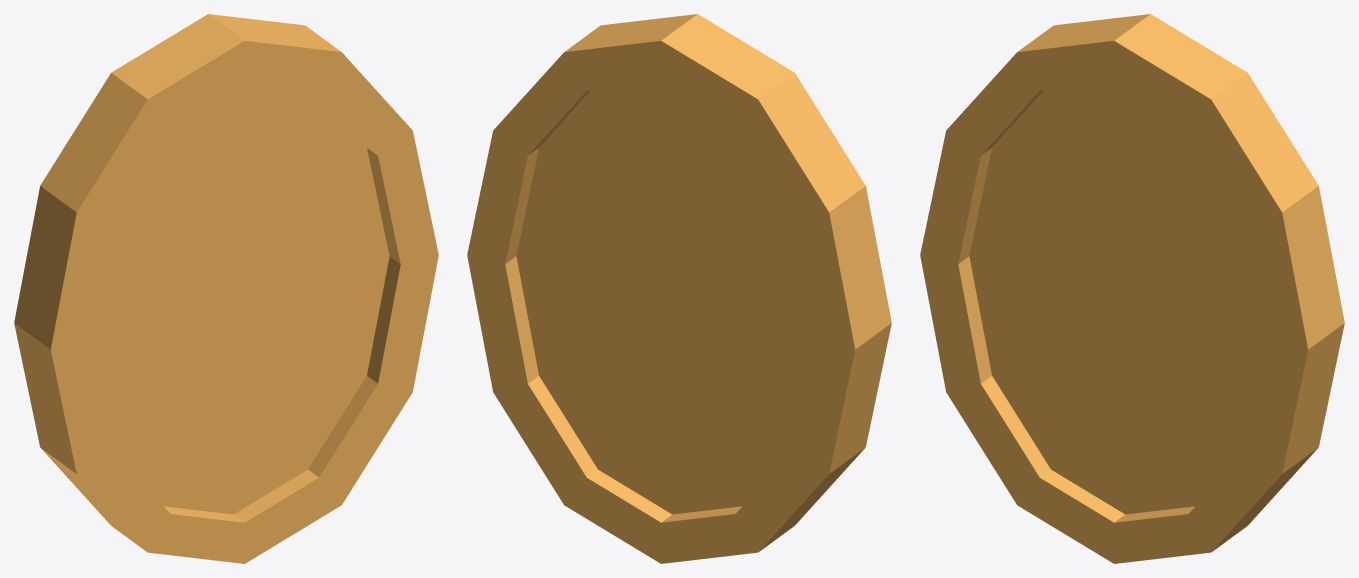
File: score.glb
3 views of the same model, side by side, from view 1: azimuth 30°, elevation 25°; view 2: azimuth 150°, elevation 25°; view 3: azimuth 330°, elevation 25° (orthographic).
Parts seen in each view (by area): view 1: model; view 2: model; view 3: model.
Boxes of the visible parts, x1=… form: model: x1=14, y1=14, x2=438, y2=563; model: x1=467, y1=14, x2=891, y2=563; model: x1=920, y1=14, x2=1344, y2=563.
Size of the model in its own units: 2 by 2.58 by 0.3267.
